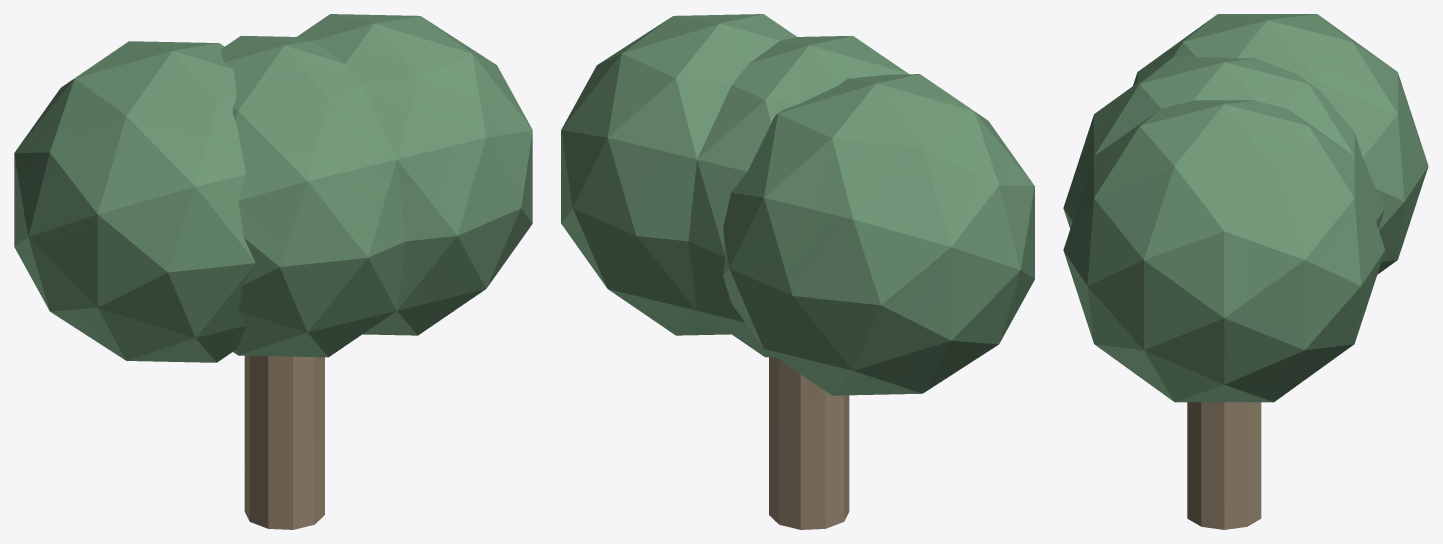
File: broadleaf-02.glb
The picture shows the model from 3 angles, left to right: view 1: azimuth 30°, elevation 25°; view 2: azimuth 150°, elevation 25°; view 3: azimuth 270°, elevation 25°; orthographic projection. The views are drawn at different scales.
Visible parts, largest first — view 1: world; view 2: world; view 3: world.
Boxes of the visible parts, <box> form: world: <box>14,14,532,529</box>; world: <box>561,14,1034,529</box>; world: <box>1063,14,1428,529</box>.
Bounding box in the file's own units: 1.2 × 1.15 × 0.8439.
